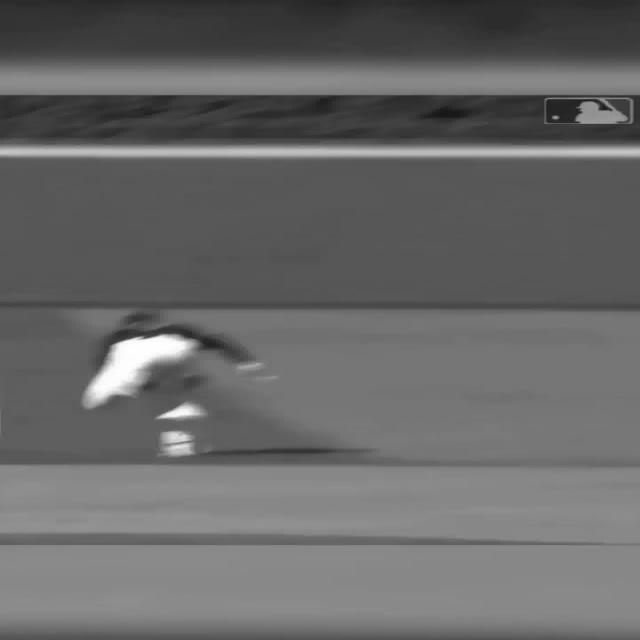baseball_glove: (235, 362, 279, 384)
shoe: (156, 430, 196, 457), (155, 402, 207, 421)
